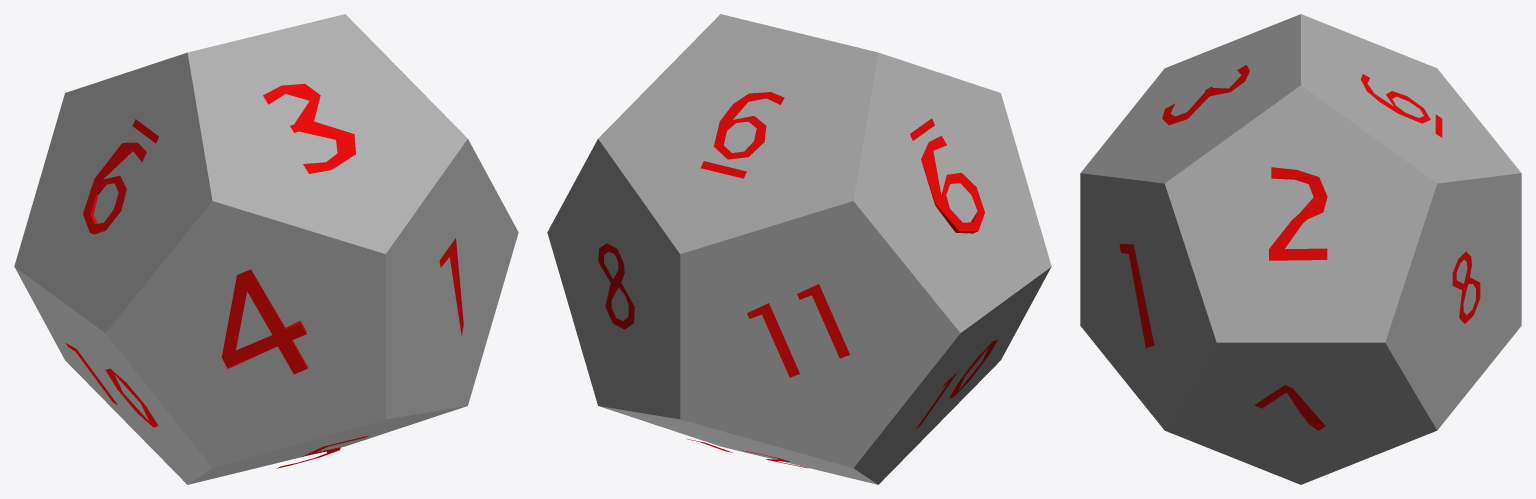
The model's file is PentagonDice.fbx.
The picture shows the model from 3 angles, left to right: view 1: azimuth 30°, elevation 25°; view 2: azimuth 150°, elevation 25°; view 3: azimuth 270°, elevation 25°; orthographic projection. The views are drawn at different scales.
Visible parts, largest first — view 1: pPlatonic2; view 2: pPlatonic2; view 3: pPlatonic2.
Boxes of the visible parts, box(x1,y1,x2,y2) form: pPlatonic2: box(14, 14, 518, 484); pPlatonic2: box(547, 14, 1051, 484); pPlatonic2: box(1080, 14, 1521, 484).
Bounding box in the file's own units: 1.87 × 1.87 × 1.87.
